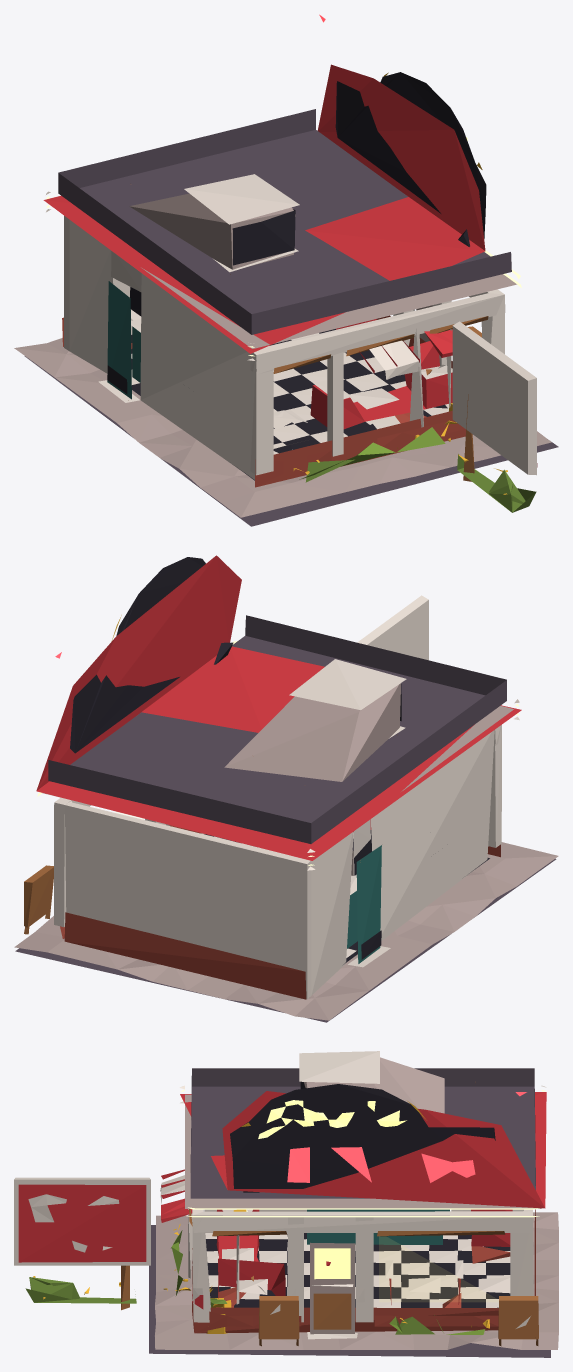
The model's file is bld.joes-diner.lod2.glb.
3 views of the same model, one above another, from view 1: azimuth 30°, elevation 25°; view 2: azimuth 150°, elevation 25°; view 3: azimuth 270°, elevation 25° (orthographic). The views are drawn at different scales.
Parts seen in each view (by area): view 1: roof, object 9, object 11, interior, object 6, object 5, door_service, object 8, object 15, object 7, object 12; view 2: roof, object 9, object 11, object 6, door_service, object 5, object 15, interior; view 3: roof, object 9, interior, object 11, object 12, object 15, object 6, door_front, object 5, object 8, object 7, object 10.
Part boxes in pixels (x1,y1,x2,y2): roof: (43,14,521,360); object 9: (64,216,536,479); object 11: (14,338,551,517); interior: (130,287,452,480); object 6: (62,315,465,487); object 5: (24,356,558,526); door_service: (107,281,131,400); object 8: (305,454,536,512); object 15: (273,316,488,481); object 7: (299,427,445,479); object 12: (359,329,537,467); roof: (36,555,521,870); object 9: (54,595,501,999); object 11: (14,833,558,1020); object 6: (60,825,500,999); door_service: (356,845,381,963); object 5: (15,858,556,1022); object 15: (24,865,53,934); interior: (204,819,489,964); roof: (179,1051,546,1217); object 9: (14,1175,533,1339); interior: (205,1209,512,1307); object 11: (155,1212,558,1349); object 12: (18,1169,203,1309); object 15: (121,1209,538,1346); object 6: (192,1209,535,1333); door_front: (310,1242,355,1334); object 5: (149,1225,550,1357); object 8: (25,1230,434,1334); object 7: (171,1236,485,1334); object 10: (33,1224,489,1333).
Bounding box in the file's own units: 6.8 × 6.13 × 11.53.
